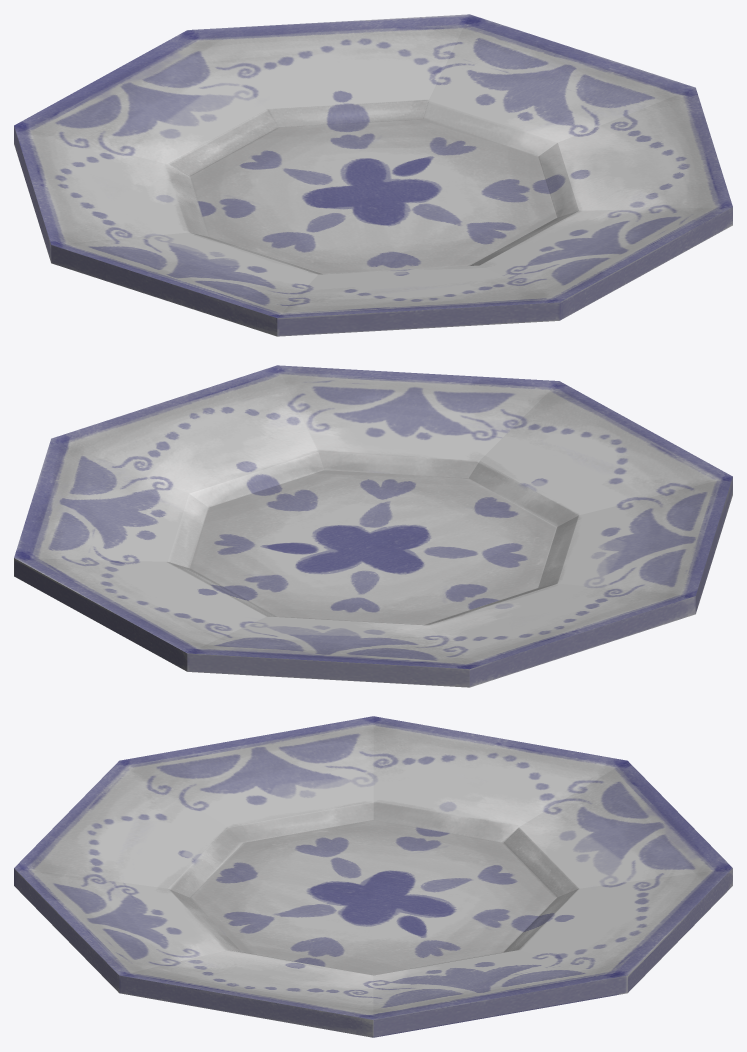
Rendered from plato_tacita_cafe_.fbx.
3 views of the same model, one above another, from view 1: azimuth 30°, elevation 25°; view 2: azimuth 150°, elevation 25°; view 3: azimuth 270°, elevation 25° (orthographic). The views are drawn at different scales.
Visible parts, largest first — view 1: Plato_tacita_term; view 2: Plato_tacita_term; view 3: Plato_tacita_term.
Part boxes in pixels (x1,y1,x2,y2): Plato_tacita_term: [14, 14, 732, 336]; Plato_tacita_term: [14, 365, 732, 687]; Plato_tacita_term: [14, 716, 732, 1037].
Size of the model in its own units: 11 by 0.9475 by 11.
Materials: 1 (1 with a texture image).
